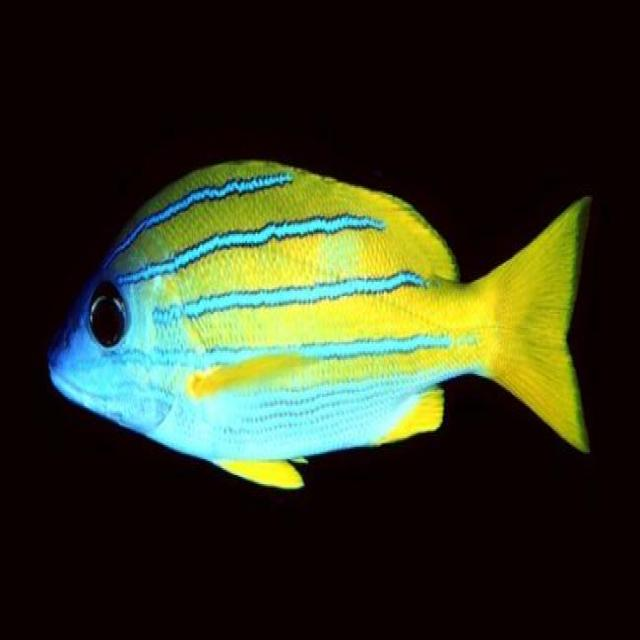ikan: (46, 154, 594, 493)
